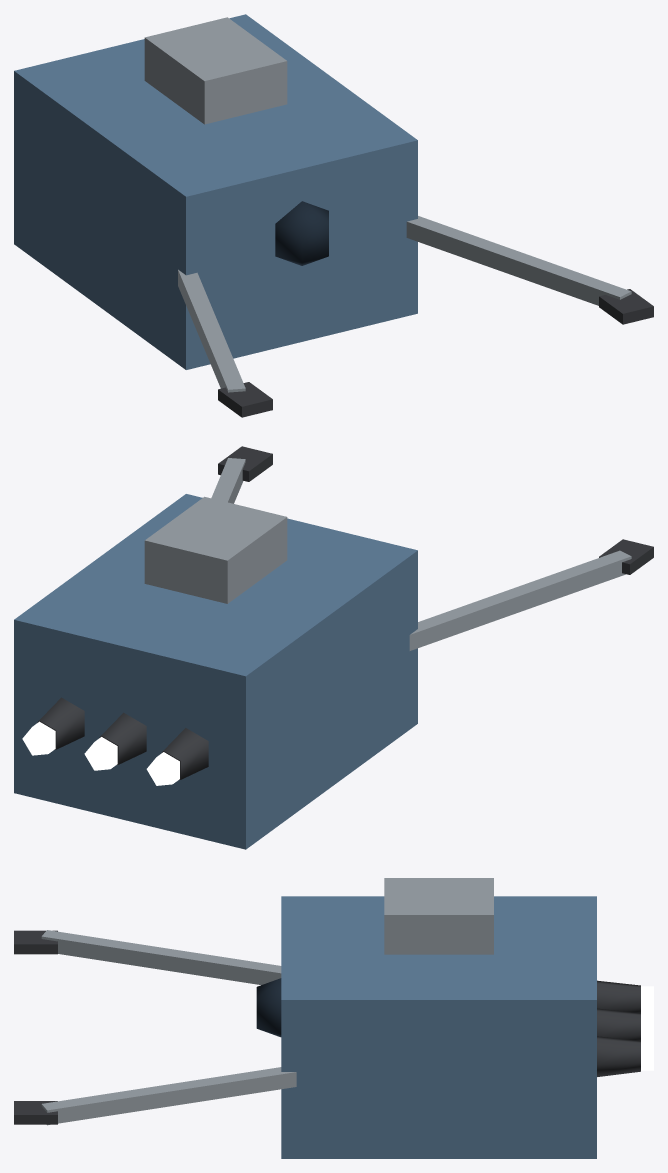
Rendered from space_ship_builder_drone_mk6_lod1.glb.
3 views of the same model, one above another, from view 1: azimuth 30°, elevation 25°; view 2: azimuth 150°, elevation 25°; view 3: azimuth 270°, elevation 25° (orthographic). The views are drawn at different scales.
Parts seen in each view (by area): view 1: body, arm_1, arm_0; view 2: body, arm_0, engine_2, engine_1, engine_0, arm_1; view 3: body, arm_1, arm_0, engine_2, engine_0, engine_1.
Boxes of the visible parts, <box> form: body: <box>14,14,417,369</box>; arm_1: <box>406,216,653,324</box>; arm_0: <box>178,269,272,417</box>; body: <box>14,494,417,849</box>; arm_0: <box>409,539,653,650</box>; engine_2: <box>22,697,84,755</box>; engine_1: <box>84,712,146,770</box>; engine_0: <box>146,728,208,785</box>; arm_1: <box>211,446,272,503</box>; body: <box>256,878,596,1158</box>; arm_1: <box>14,1067,296,1125</box>; arm_0: <box>14,930,281,984</box>; engine_2: <box>597,1036,653,1076</box>; engine_0: <box>597,980,653,1014</box>; engine_1: <box>597,1008,653,1041</box>.
Size of the model in its own units: 3.98 by 2.12 by 5.84.
